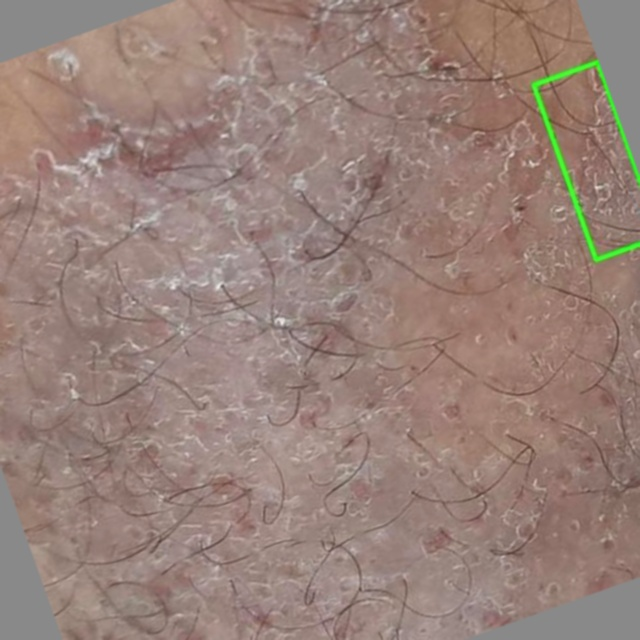Eczema: (533, 62, 639, 259)
